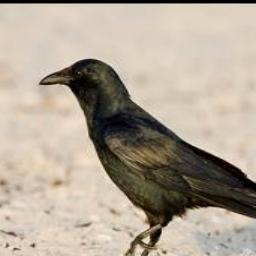Crow: (34, 56, 256, 256)
